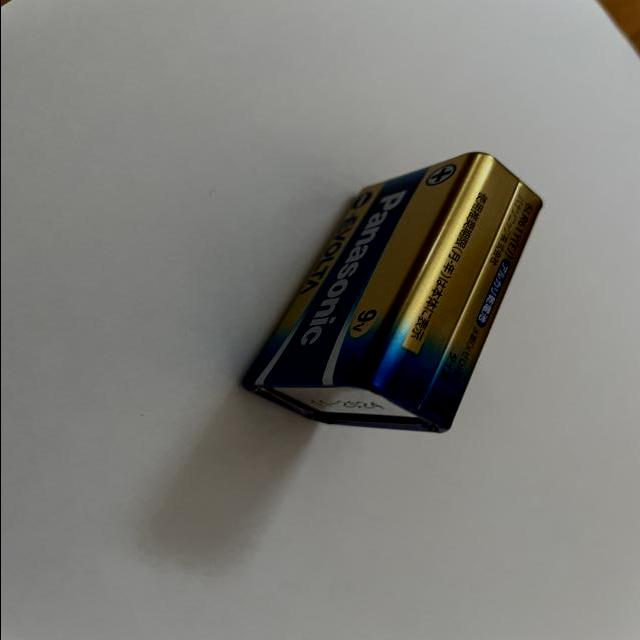9V: (237, 149, 546, 433)
